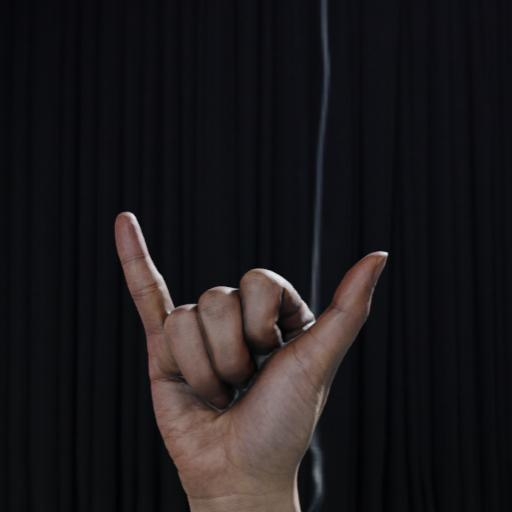Y: (106, 206, 395, 479)
